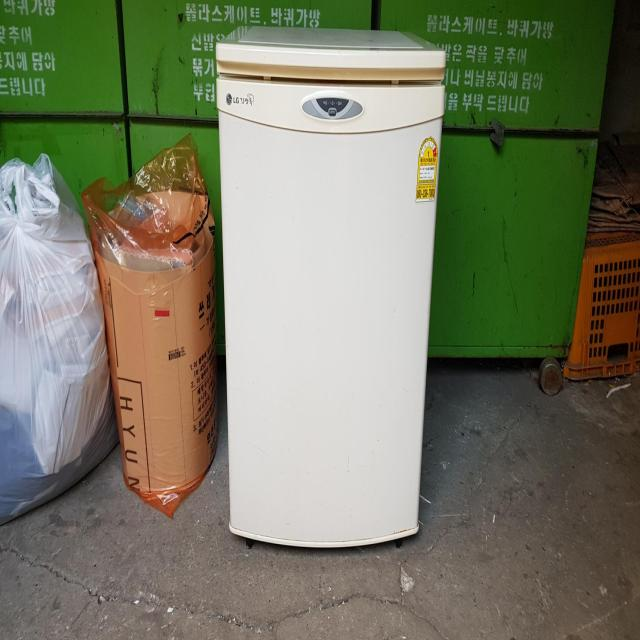refrigerator: (213, 20, 450, 554)
